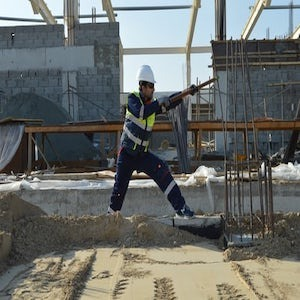safety: (138, 65, 157, 84)
vest: (123, 99, 156, 149)
